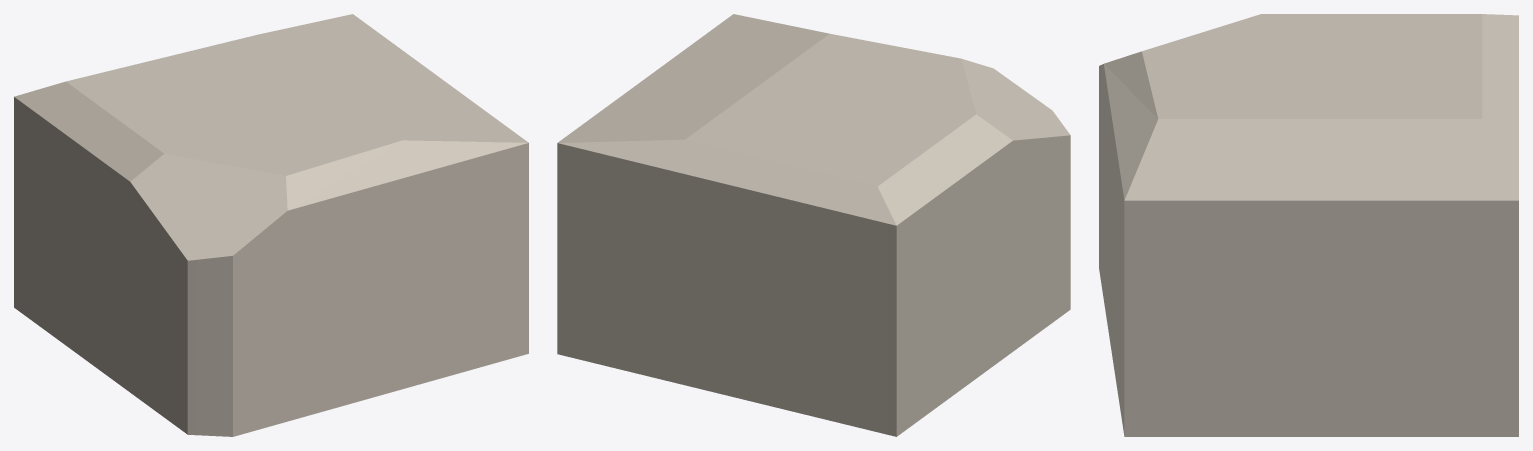
File: rock-square-s-05.glb
The picture shows the model from 3 angles, left to right: view 1: azimuth 30°, elevation 25°; view 2: azimuth 150°, elevation 25°; view 3: azimuth 270°, elevation 25°; orthographic projection. The views are drawn at different scales.
Visible parts, largest first — view 1: Rock_Square_s_05; view 2: Rock_Square_s_05; view 3: Rock_Square_s_05.
Boxes of the visible parts, x1,y1,x2,y2 form: Rock_Square_s_05: (14, 14, 528, 436); Rock_Square_s_05: (557, 14, 1070, 436); Rock_Square_s_05: (1099, 14, 1518, 436).
Size of the model in its own units: 0.4023 by 0.2602 by 0.3851.
1 material, 1 textured.
